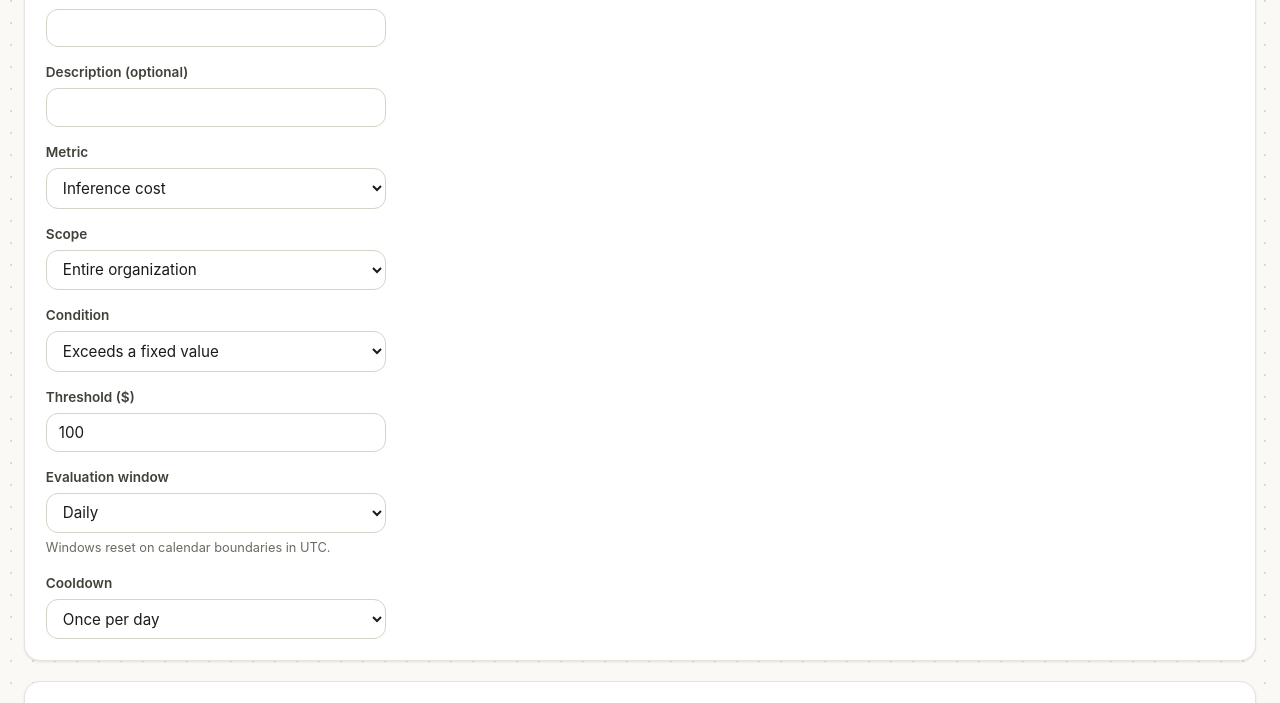
Test: AlertFormPage — budget-backed conditions › blocks a budget condition when the organization has no budget
(page scrolled)
Select "Exceeds % of monthly budget" in the dropdown labelled "Condition" at {"x": 216, "y": 352}, box [46,331,386,372]
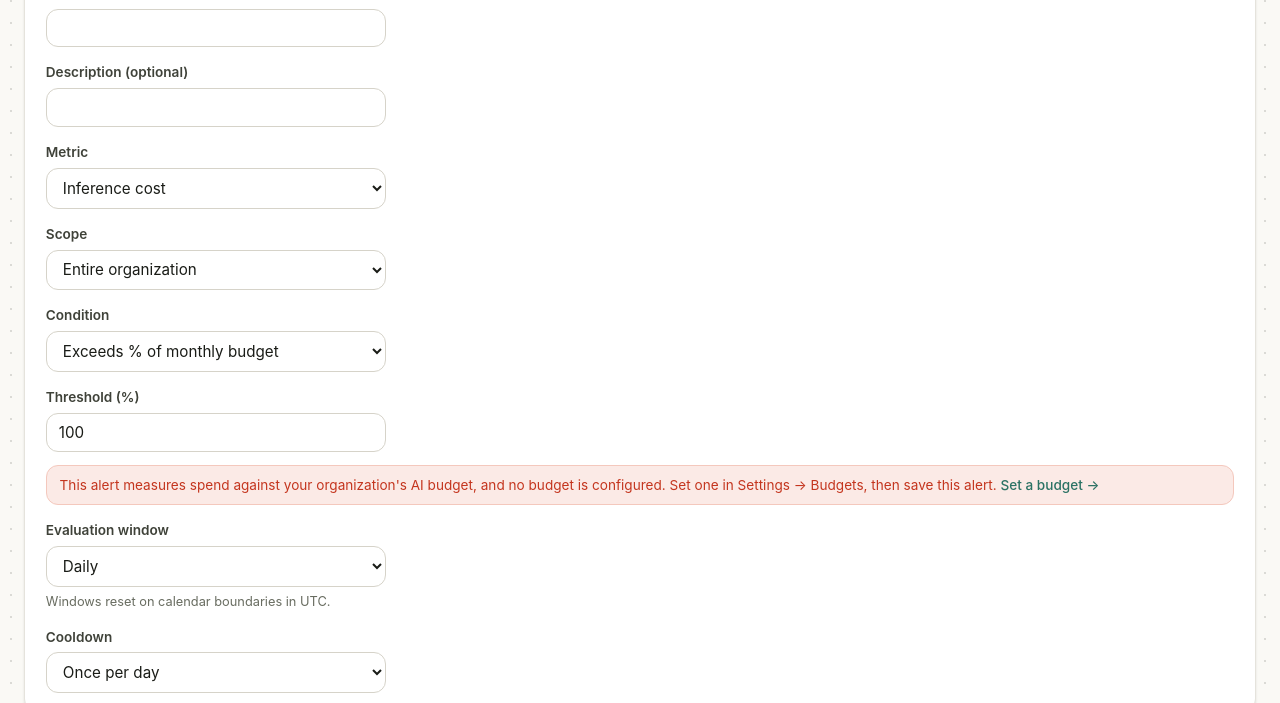
Check: the text "no budget is configured" is shown, box [60,477,997,493]
